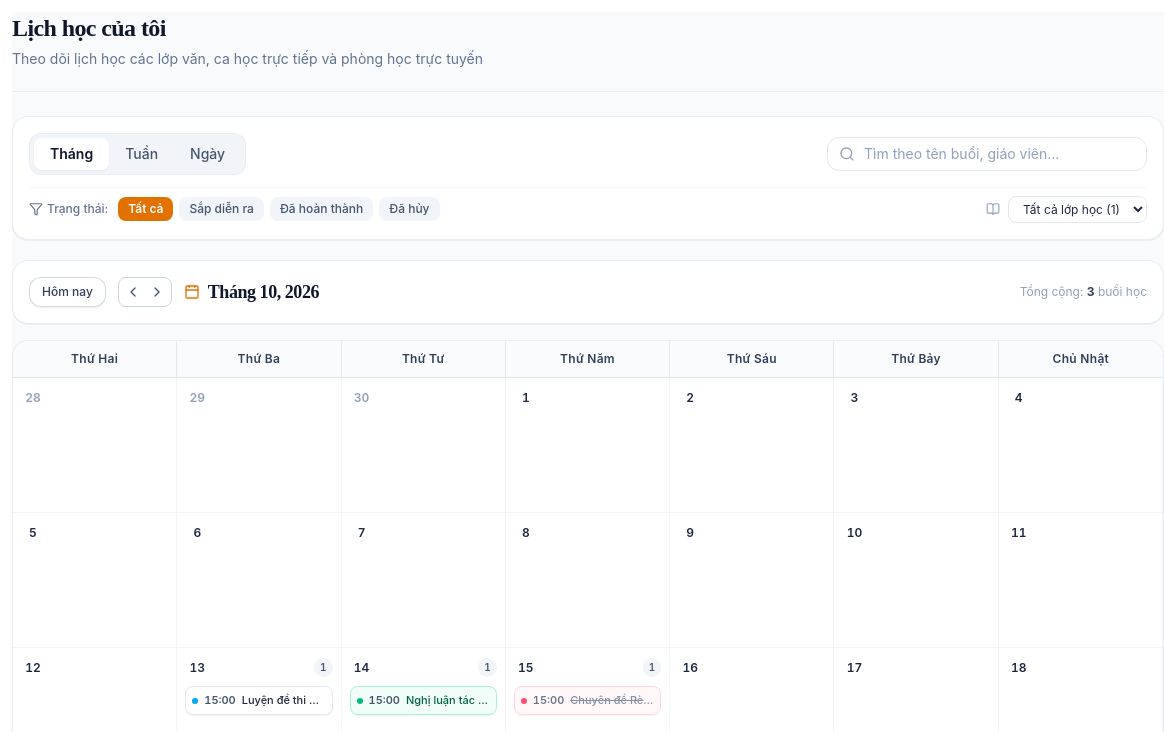
Test case: StudentSchedulesPage › filters by search keyword
Type "Chiếc thuyền ngoài xa" into the field with placeholder "Tìm theo tên buổi, giáo viên..." at (987,154), box [827,137,1147,171]
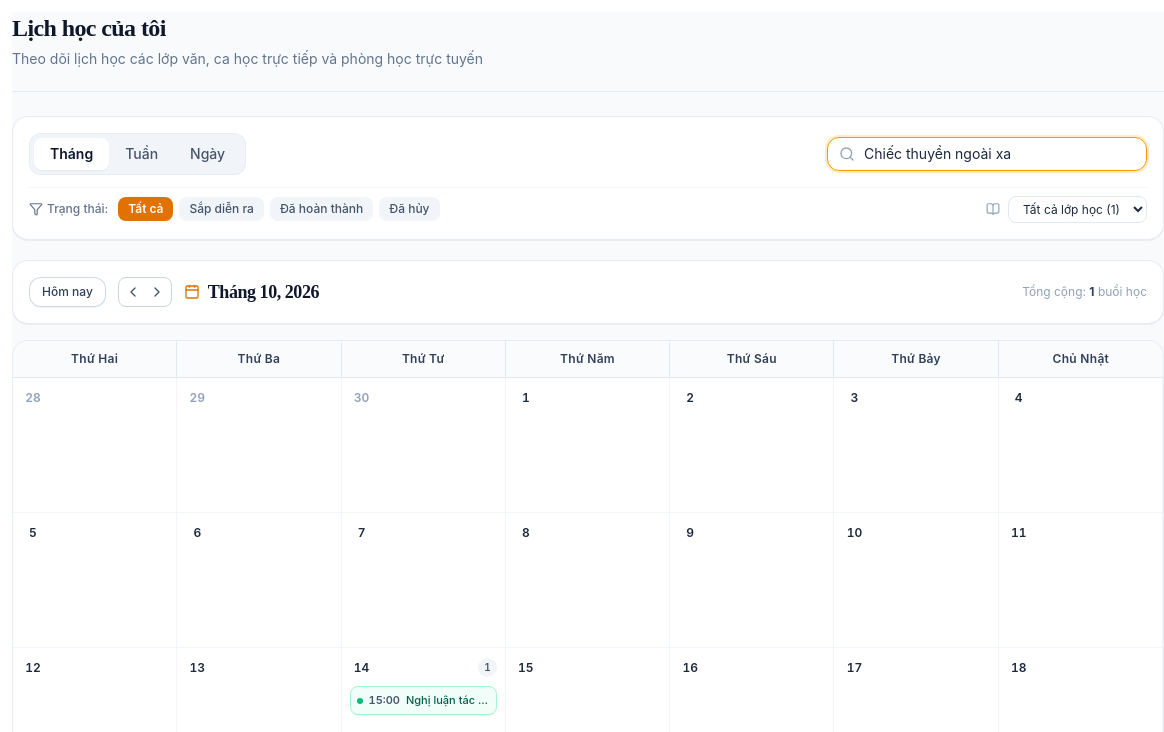
Expected: the button "Luyện đề thi THPT Quốc gia" is gone
